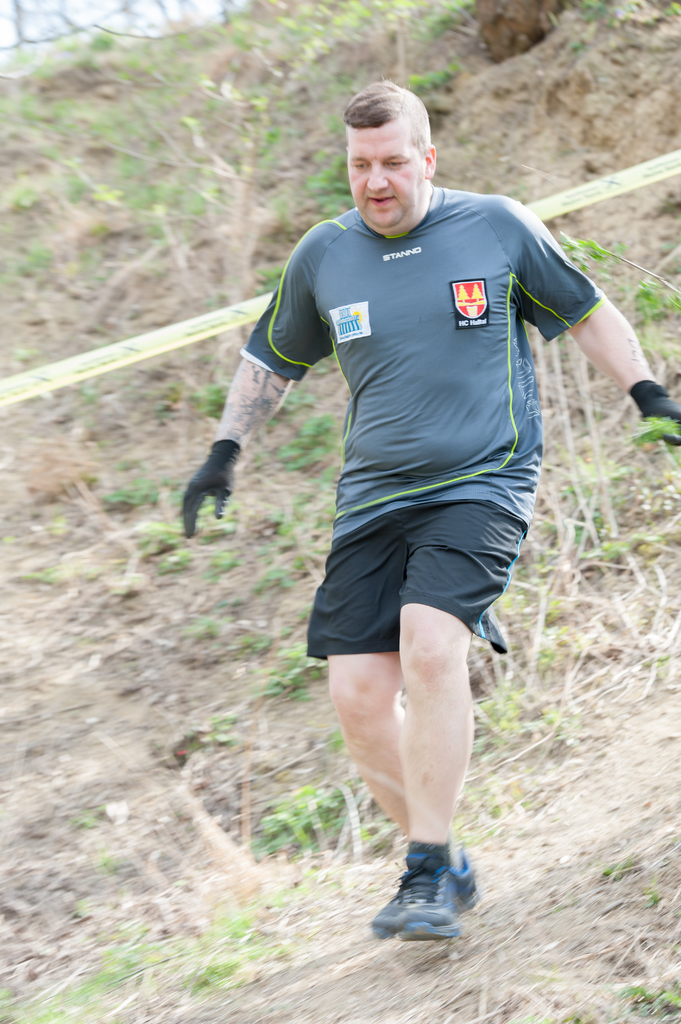Person: (181, 78, 680, 941)
